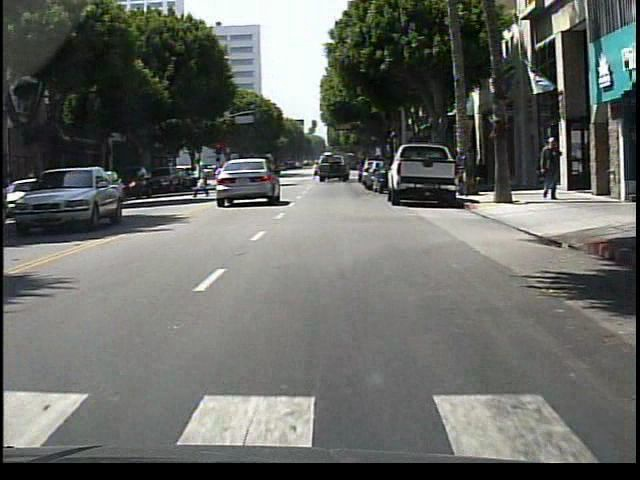person: (538, 135, 562, 201), (193, 156, 212, 199), (537, 146, 552, 199), (313, 160, 321, 182)
